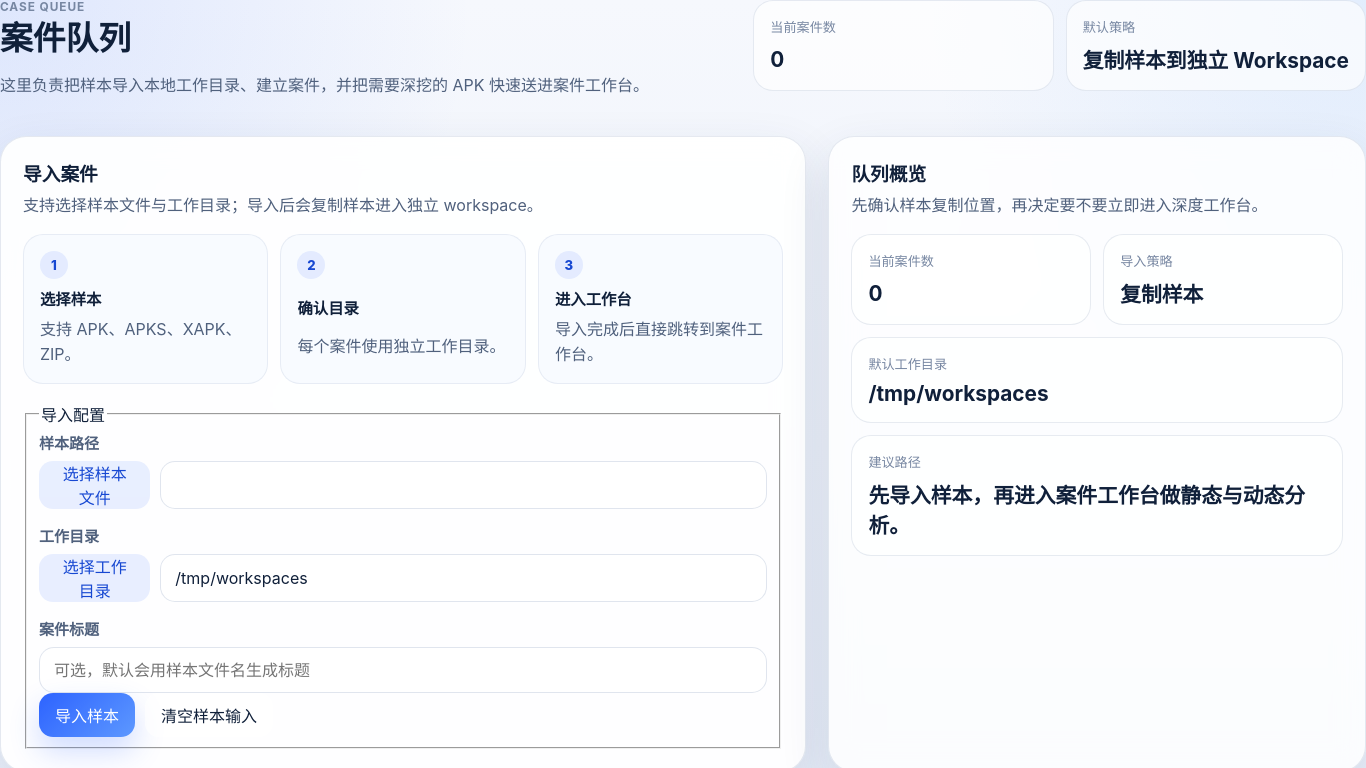
Test: CaseQueuePage › shows a Chinese hint when the native chooser is unavailable
Click the button "选择样本文件".
click(95, 485)  # box [39,461,150,509]
(page scrolled)
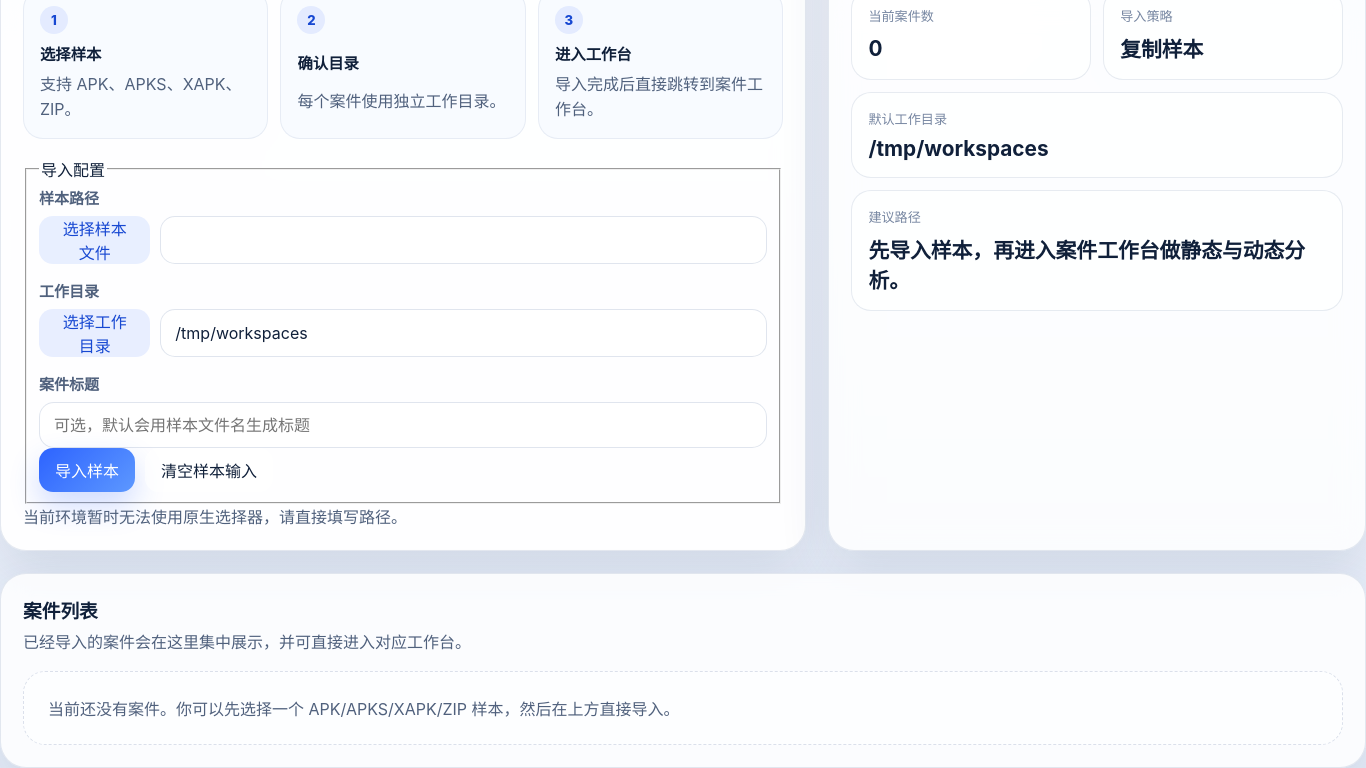
Result: the message reads "当前环境暂时无法使用原生选择器，请直接填写路径。" at [23,507,407,527]
